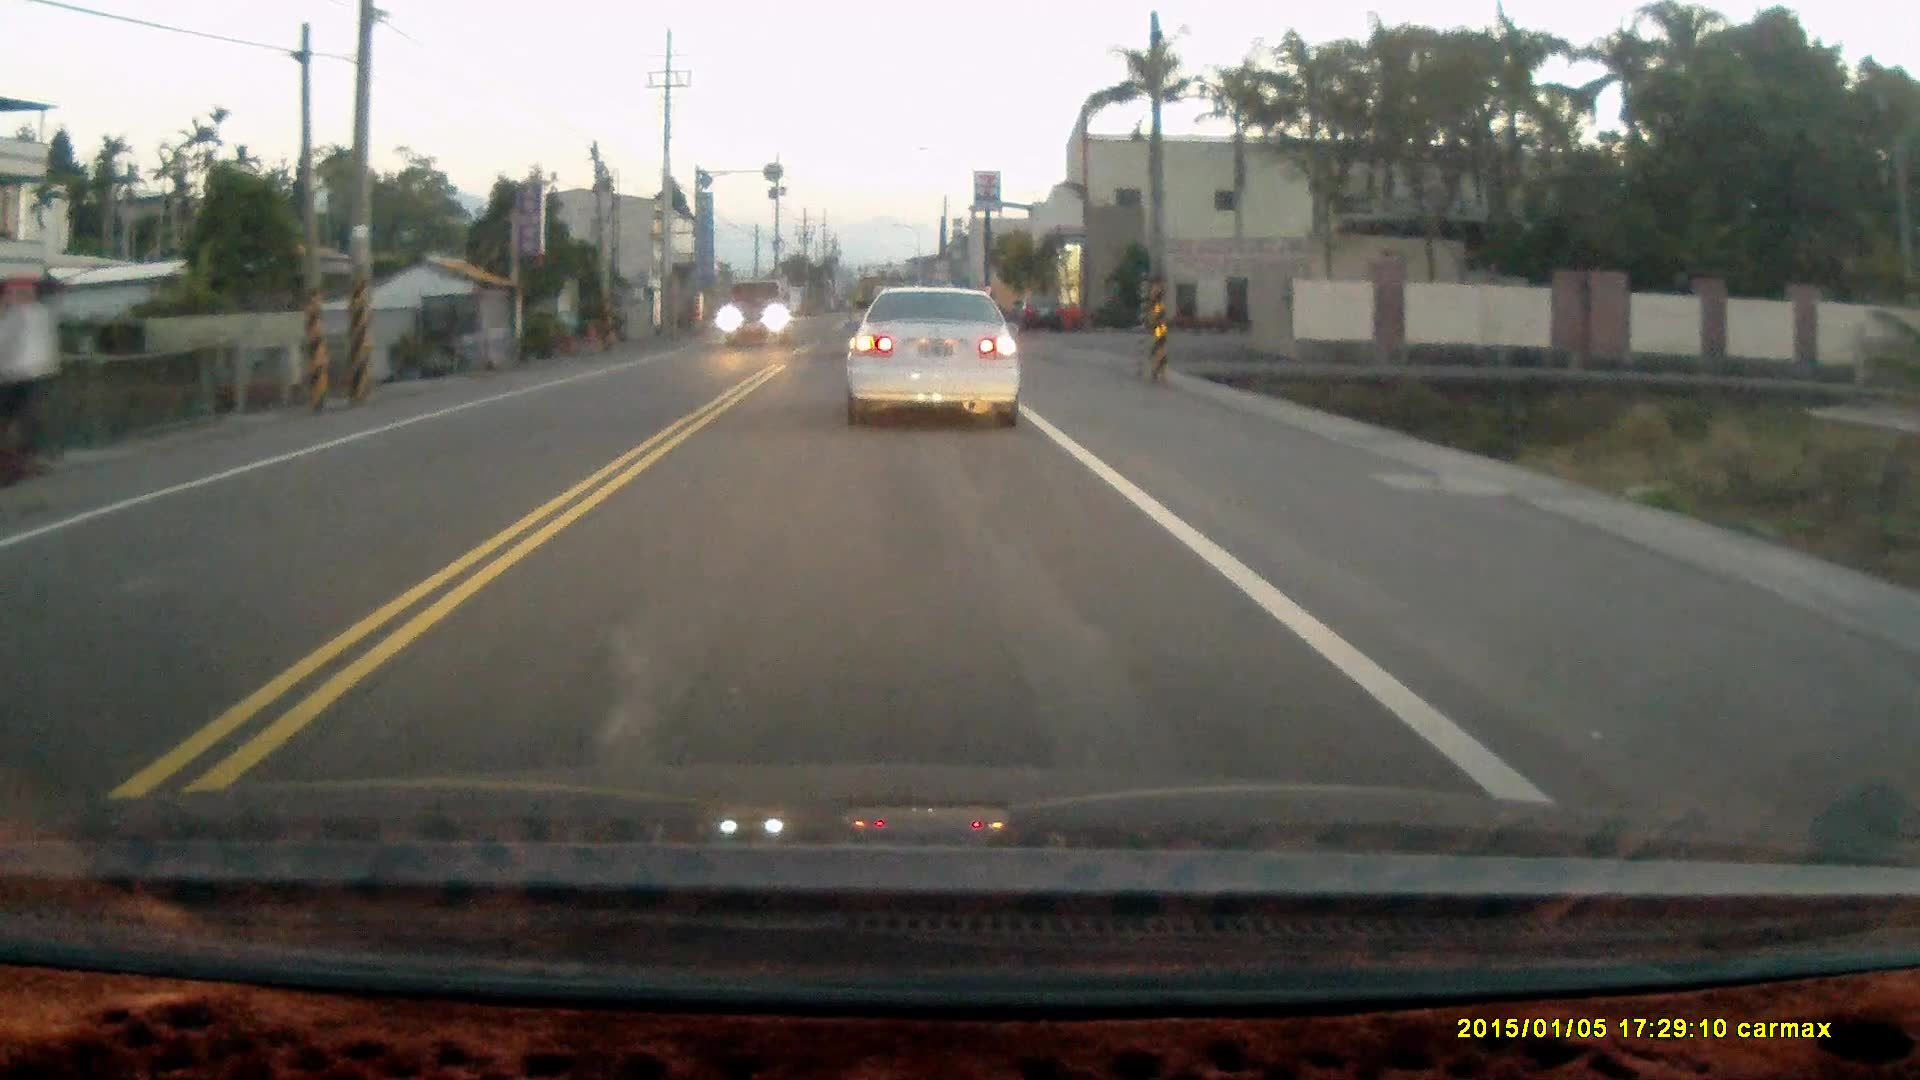rider: (0, 276, 74, 509)
vehicle: (843, 288, 1026, 428), (724, 281, 800, 347), (1013, 290, 1063, 333)
